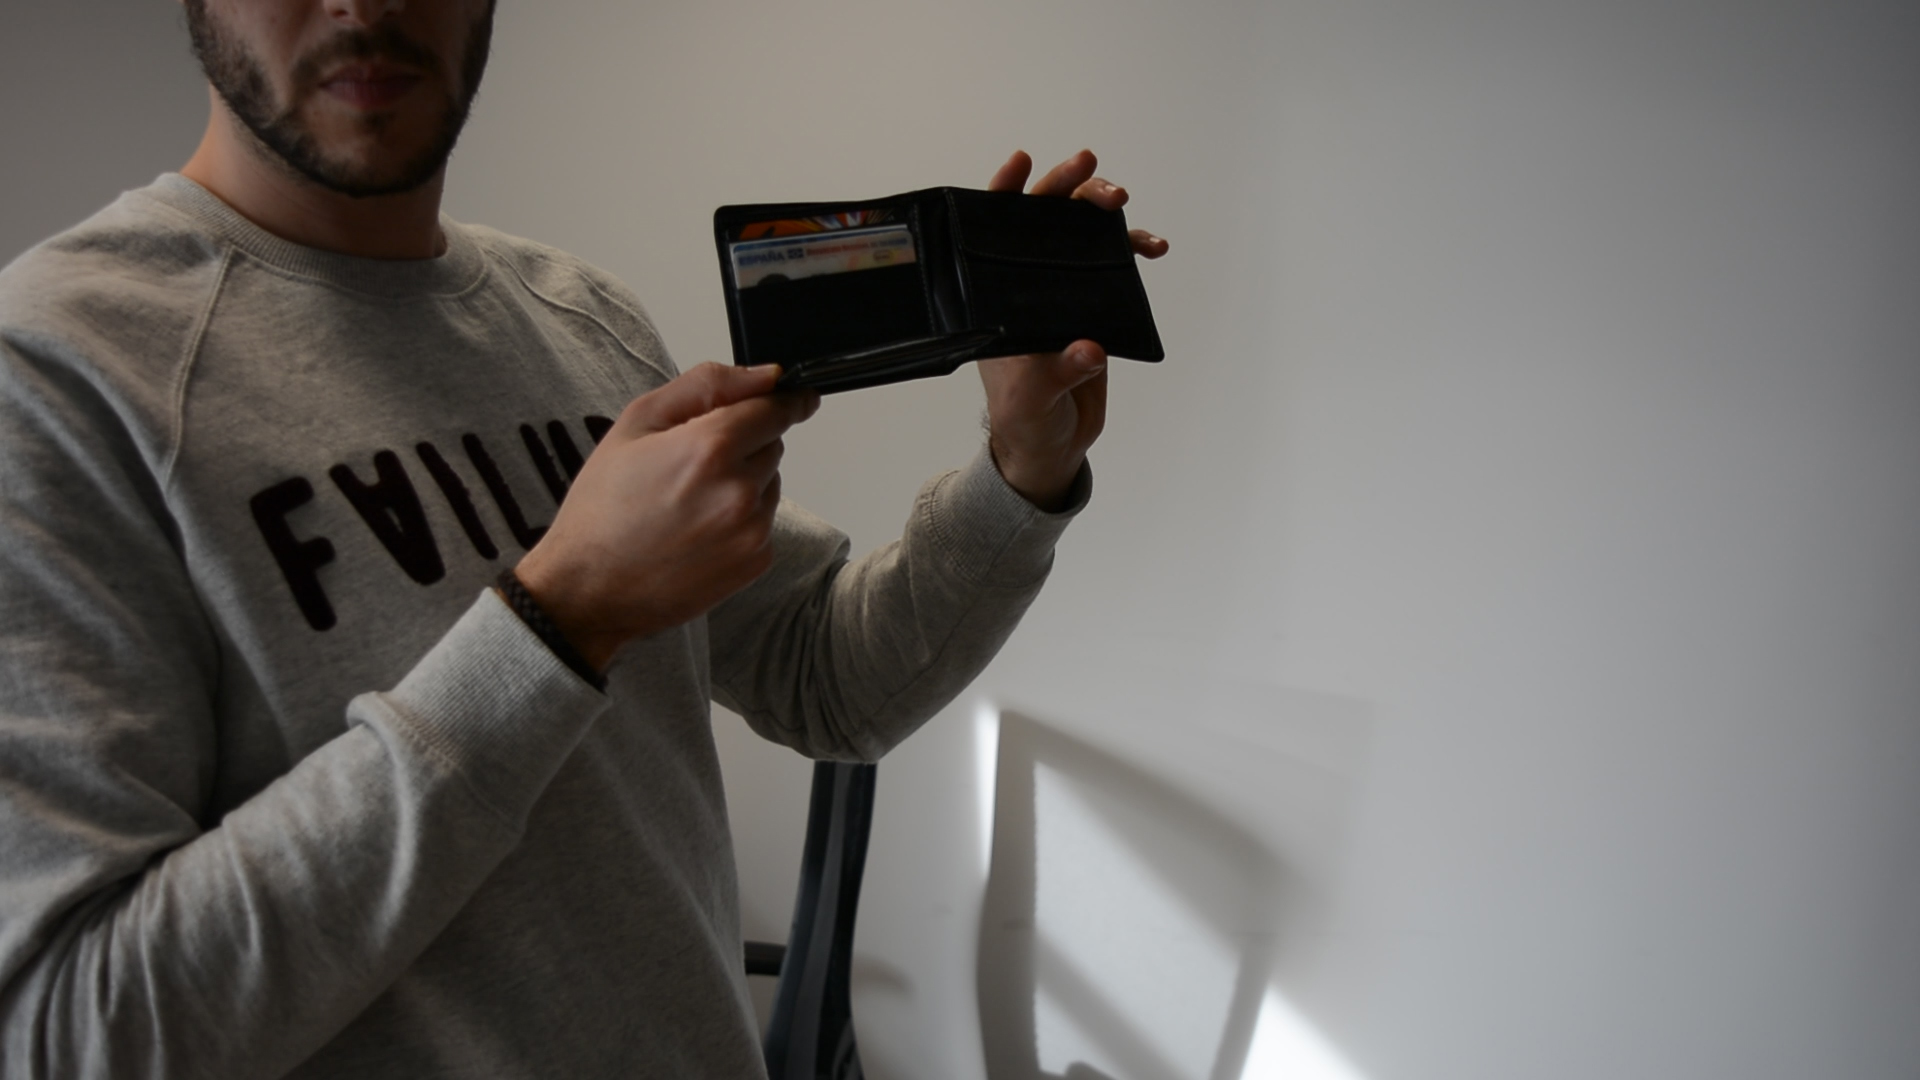monedero: (712, 182, 1168, 398)
